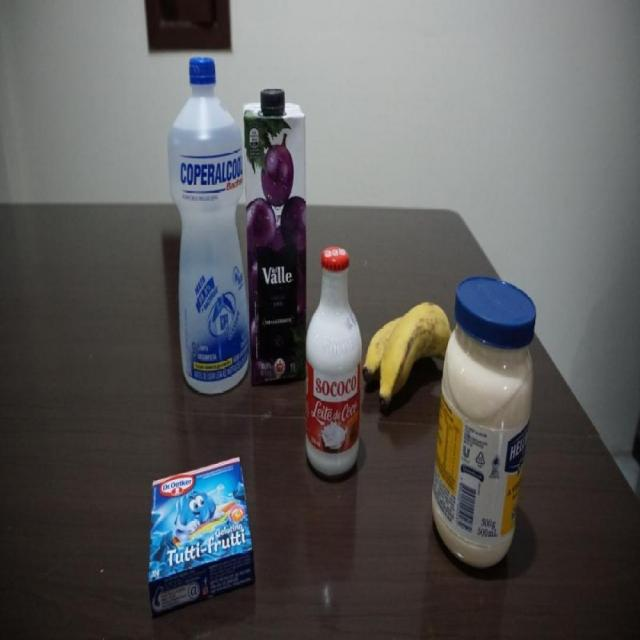AlcoholBottle: (168, 54, 248, 397)
Banana: (363, 294, 451, 413)
CoconutMilk: (302, 243, 362, 480)
Gelatine: (146, 454, 258, 623)
Mayonnaise: (430, 274, 539, 573)
